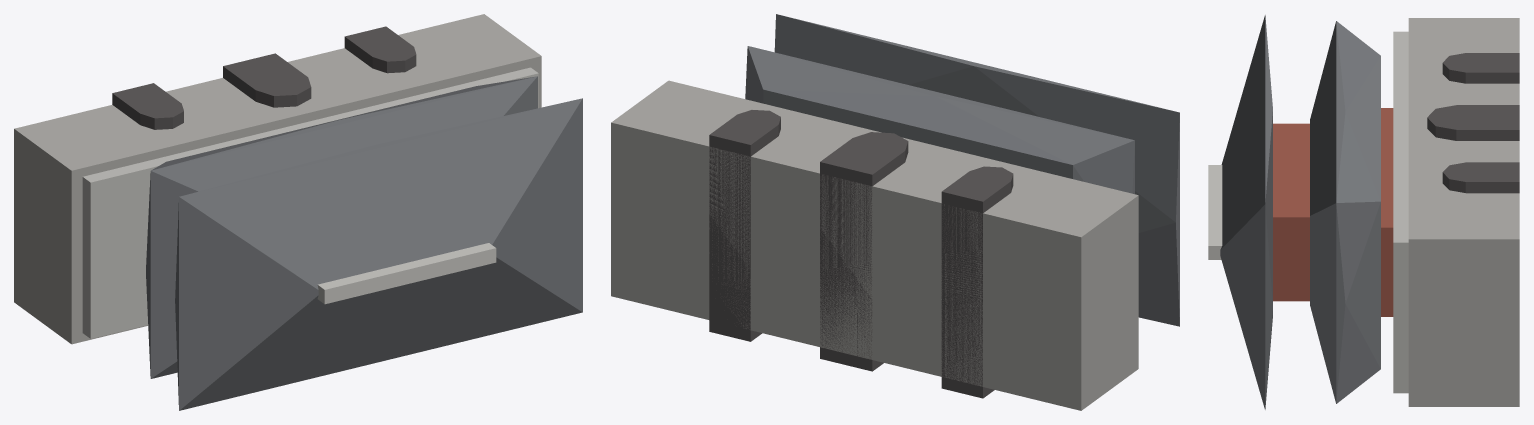
3 views of the same model, side by side, from view 1: azimuth 30°, elevation 25°; view 2: azimuth 150°, elevation 25°; view 3: azimuth 270°, elevation 25° (orthographic). The views are drawn at different scales.
Parts seen in each view (by area): view 1: part8, part0, part6, part4, part9, part1, part3, part2; view 2: part0, part8, part6, part1, part2, part3; view 3: part0, part6, part8, part7, part4, part1, part5, part3, part2, part9.
Part boxes in pixels (x1,y1,x2,y2): part8: (175,98,582,410); part0: (14,14,541,344); part6: (146,76,537,378); part4: (82,67,538,338); part9: (317,243,496,304); part1: (223,53,311,107); part3: (344,26,416,73); part2: (112,83,183,129); part0: (611,80,1138,410); part8: (774,14,1179,326); part6: (745,46,1134,194); part1: (820,132,908,371); part2: (941,166,1013,398); part3: (709,110,780,341); part0: (1408,18,1519,406); part6: (1310,21,1380,403); part8: (1220,15,1272,409); part7: (1273,123,1309,301); part4: (1393,31,1408,393); part1: (1427,105,1519,140); part5: (1381,108,1393,316); part3: (1442,162,1519,193); part2: (1442,53,1519,83); part9: (1208,165,1222,259).
Size of the model in its own units: 6.12 by 2.66 by 3.64.
